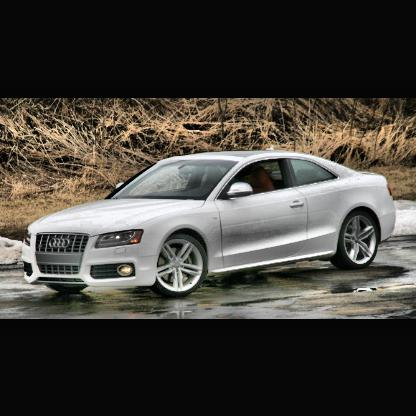Audi S5 Coupe 2012: (19, 146, 401, 303)
